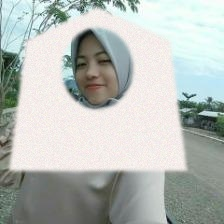Mukena: (9, 7, 186, 170)
